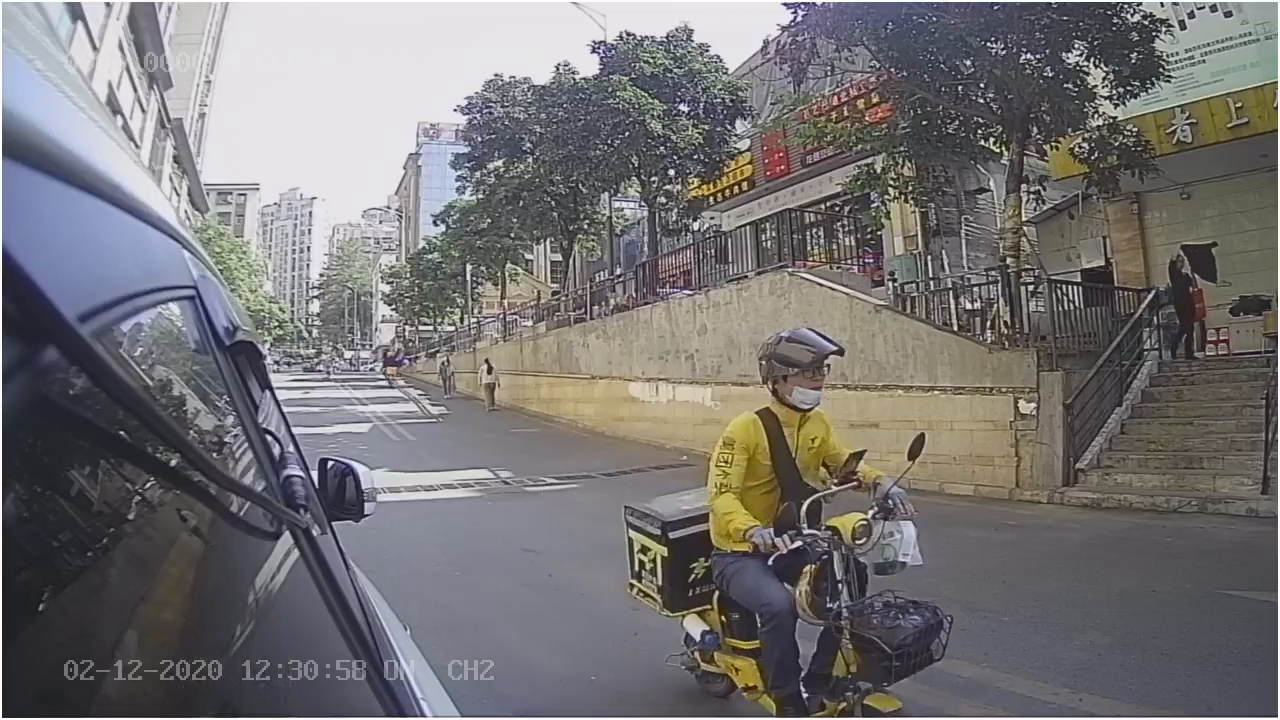person: (704, 314, 872, 546)
